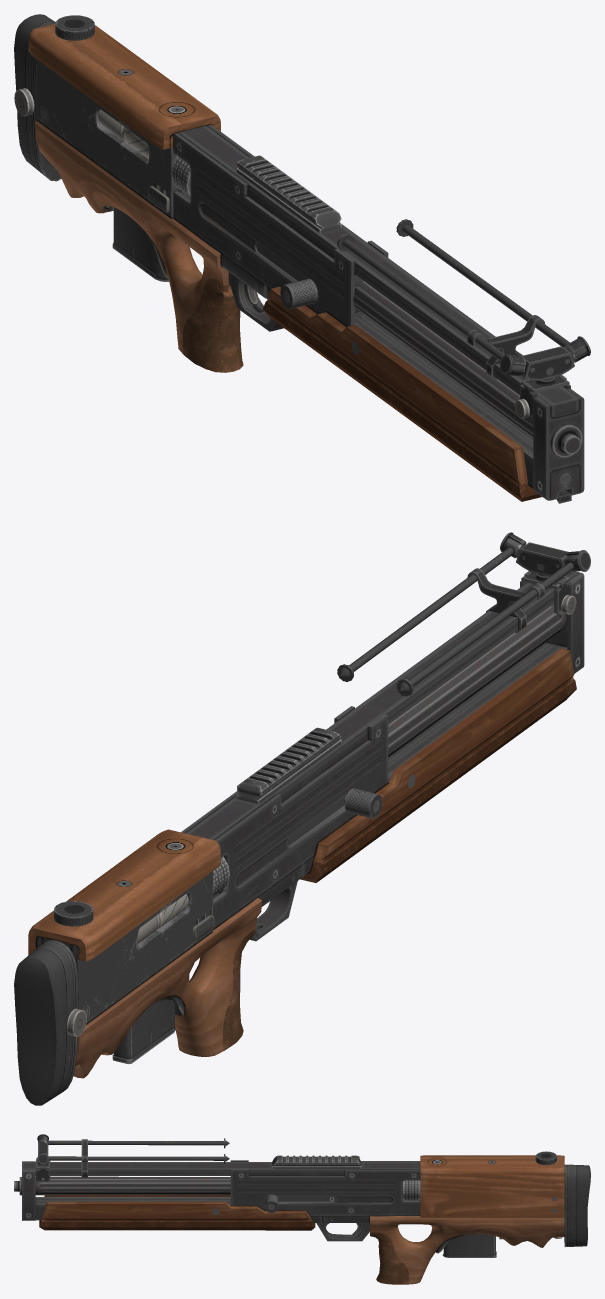
Rendered from raw.glb.
3 views of the same model, one above another, from view 1: azimuth 30°, elevation 25°; view 2: azimuth 150°, elevation 25°; view 3: azimuth 270°, elevation 25° (orthographic). The views are drawn at different scales.
Parts seen in each view (by area): view 1: wa2000_LOD0; view 2: wa2000_LOD0; view 3: wa2000_LOD0.
Boxes of the visible parts, bbox=[...] form: wa2000_LOD0: bbox=[14, 14, 590, 503]; wa2000_LOD0: bbox=[14, 532, 590, 1105]; wa2000_LOD0: bbox=[14, 1134, 590, 1284].
Size of the model in its own units: 0.0795 by 0.2156 by 0.8308.
Materials: 1 (1 with a texture image).
